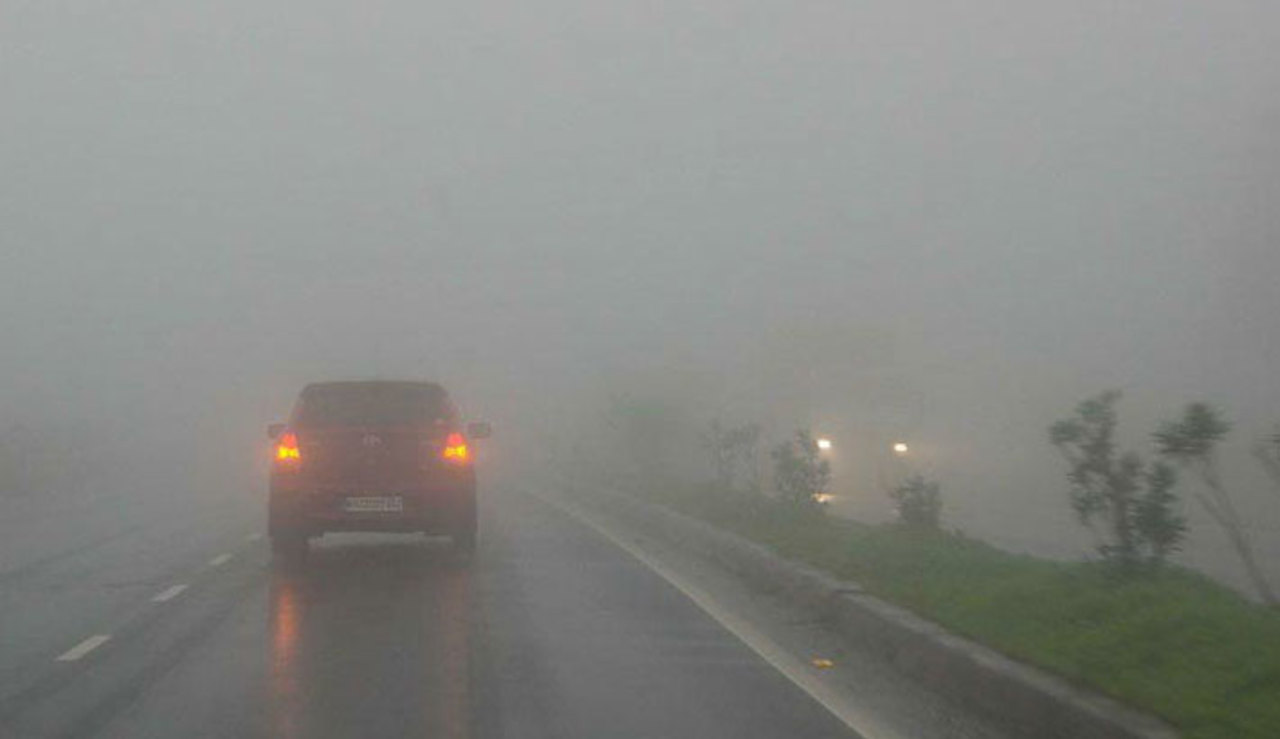car: (260, 378, 482, 567)
truck: (761, 332, 925, 498)
